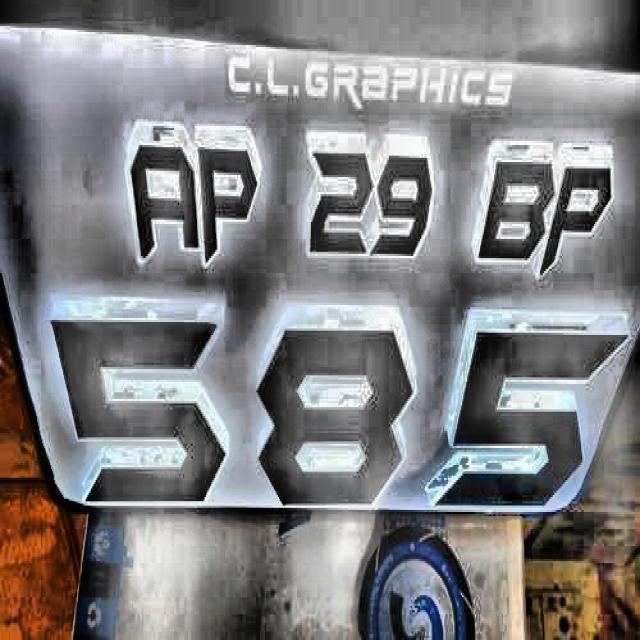license_plate: (7, 23, 635, 528)
